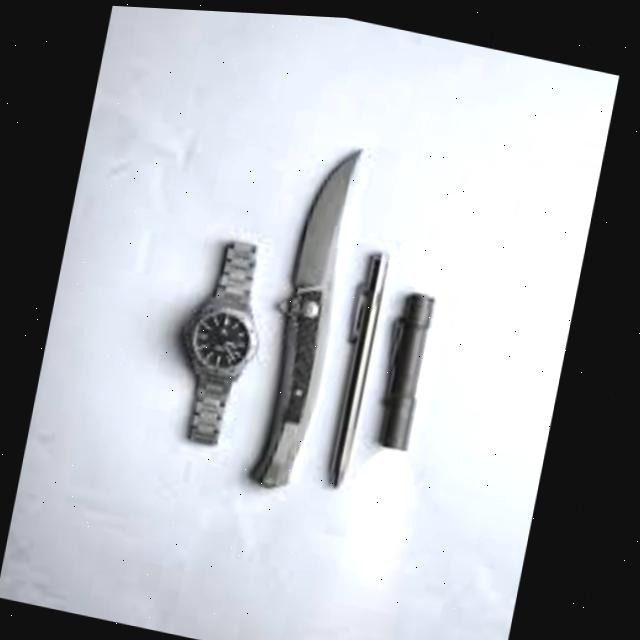Knife: (253, 131, 371, 491)
